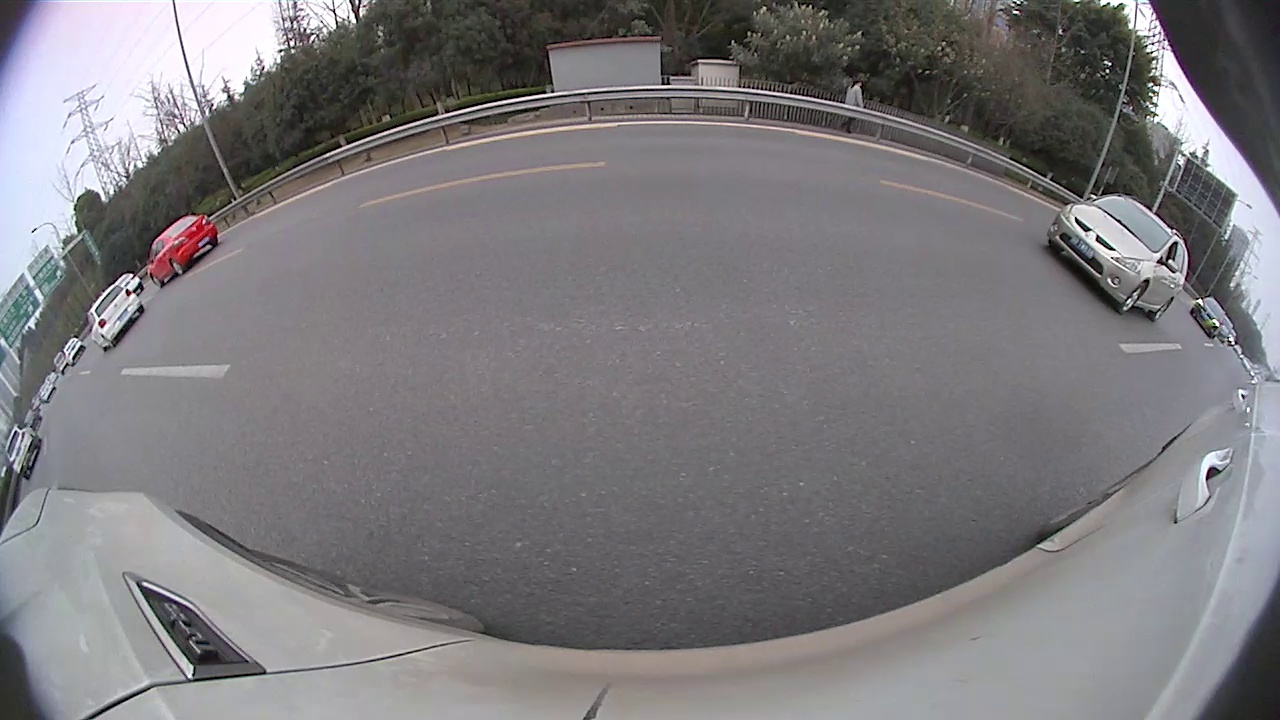bus: (899, 101, 1279, 412), (759, 124, 898, 199)
car: (75, 108, 477, 386), (825, 149, 1049, 272), (585, 116, 745, 238), (496, 153, 574, 206)
front: (439, 193, 474, 249), (829, 189, 851, 221), (773, 171, 784, 191)
rear: (223, 255, 318, 363), (1165, 292, 1237, 380), (913, 211, 950, 258), (820, 172, 837, 198)
